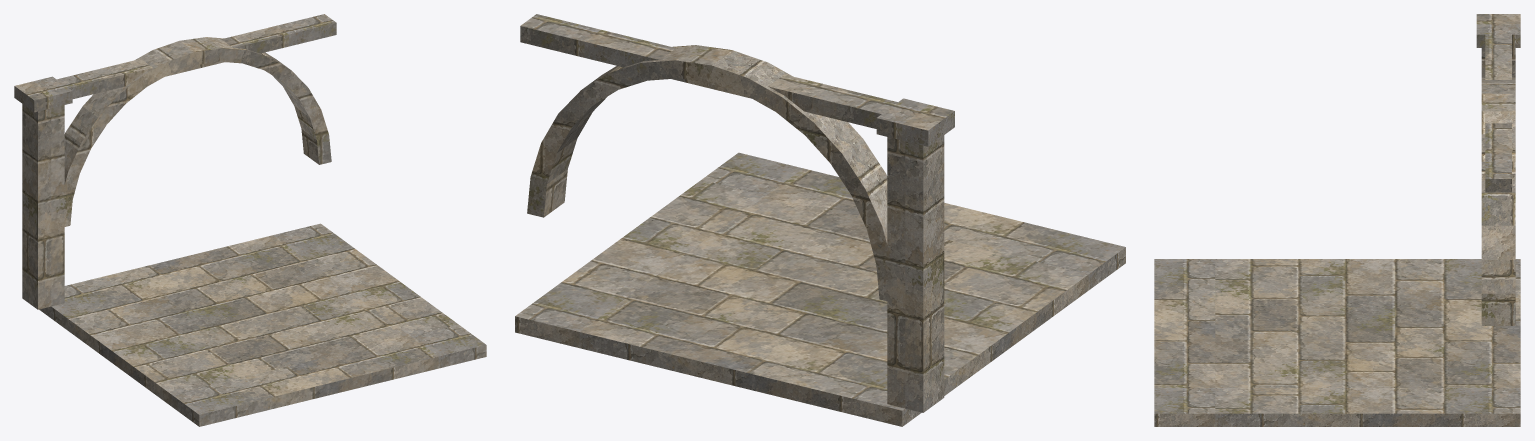
Rendered from castle-arcade-bay.gltf.
The picture shows the model from 3 angles, left to right: view 1: azimuth 30°, elevation 25°; view 2: azimuth 150°, elevation 25°; view 3: azimuth 270°, elevation 25°; orthographic projection. The views are drawn at different scales.
Visible parts, largest first — view 1: floor-L0-stone, structure-L0-stone; view 2: floor-L0-stone, structure-L0-stone; view 3: floor-L0-stone, structure-L0-stone.
Boxes of the visible parts, left/top/right/bottom form: floor-L0-stone: left=39, top=223, right=486, bottom=426; structure-L0-stone: left=14, top=14, right=336, bottom=309; floor-L0-stone: left=515, top=152, right=1125, bottom=426; structure-L0-stone: left=520, top=14, right=954, bottom=412; floor-L0-stone: left=1154, top=259, right=1520, bottom=426; structure-L0-stone: left=1476, top=14, right=1520, bottom=325.
Size of the model in its own units: 3.2 by 2.31 by 3.
Materials: 2 (2 with a texture image).
